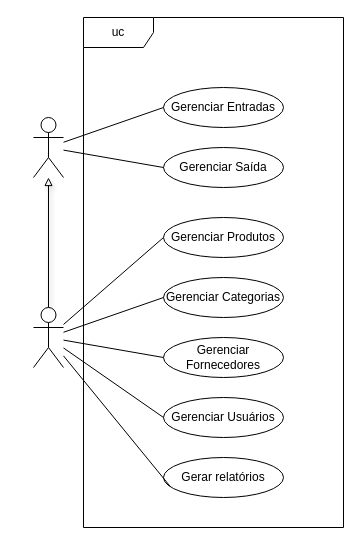
This 361x545 diagram has some shape labels left out. Each missing label, with the centre of its shape:
"Funcionário" goes at point 48,147.
"Gerente" goes at point 48,337.
